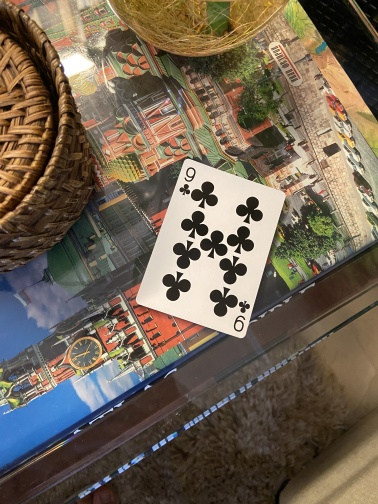nine: (135, 157, 287, 341)
